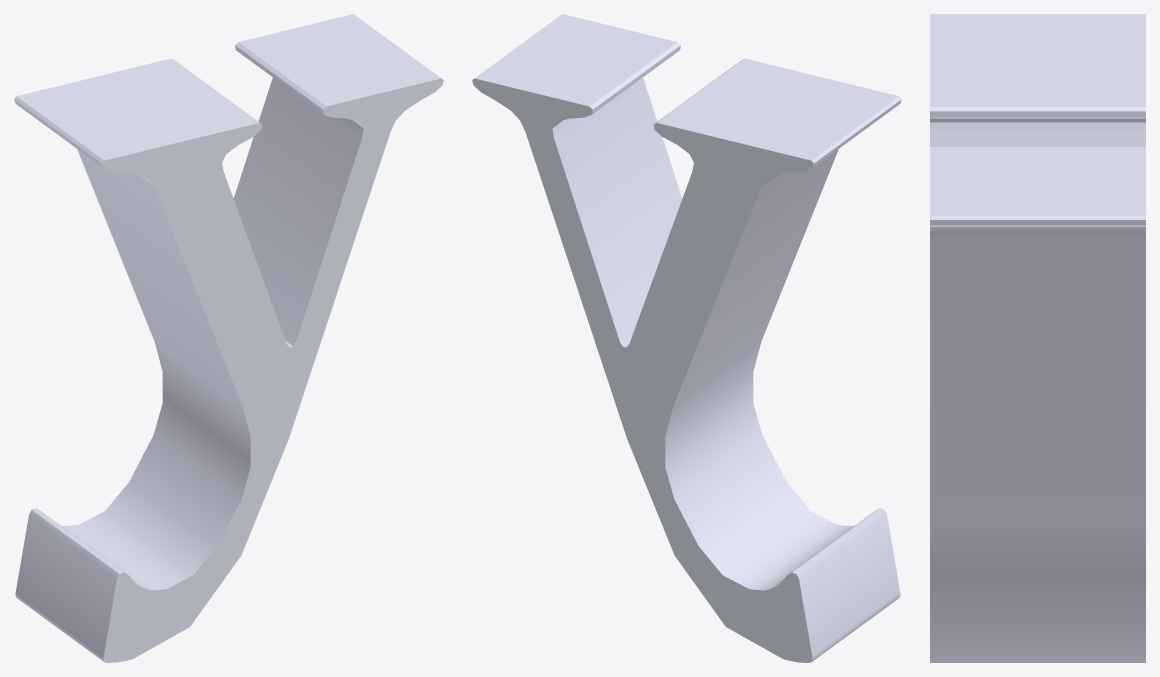
The model's file is Y_Soul_Grey.glb.
3 renders of one model, left to right at view 1: azimuth 30°, elevation 25°; view 2: azimuth 150°, elevation 25°; view 3: azimuth 270°, elevation 25°, orthographic. The views are drawn at different scales.
Visible parts, largest first — view 1: y_Soul_Grey; view 2: y_Soul_Grey; view 3: y_Soul_Grey.
Boxes of the visible parts, left/top/right/bottom form: y_Soul_Grey: left=14, top=14, right=443, bottom=662; y_Soul_Grey: left=472, top=14, right=901, bottom=662; y_Soul_Grey: left=930, top=14, right=1145, bottom=662.
Size of what is drawn, in the model's own units: 0.1009 by 0.1426 by 0.045.
Materials: 2 (2 with a texture image).
